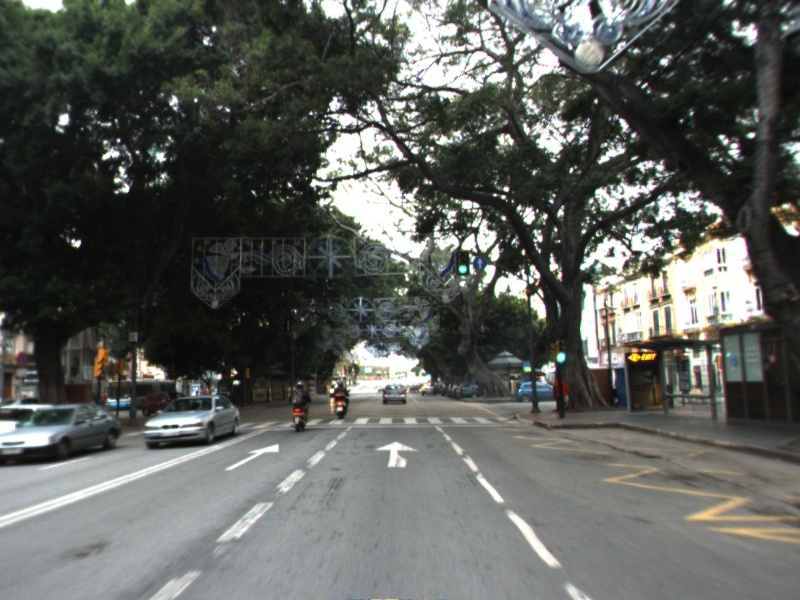STRAIGHT: (224, 442, 281, 472), (373, 440, 421, 469)
